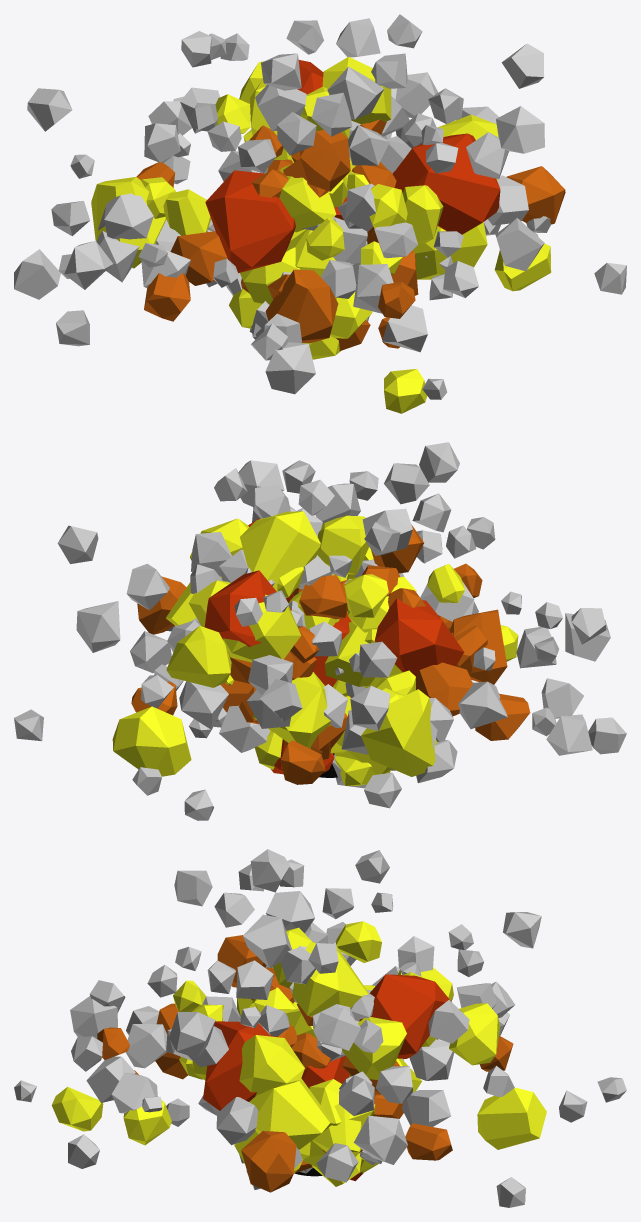
The model's file is Explosion0033.obj.
3 renders of one model, top to bottom at view 1: azimuth 30°, elevation 25°; view 2: azimuth 150°, elevation 25°; view 3: azimuth 270°, elevation 25°, orthographic. The views are drawn at different scales.
Parts seen in each view (by area): view 1: Cube_Material, Cube.002_Material.003, Cube.001_Material.002, Cube.003_Material.004; view 2: Cube_Material, Cube.002_Material.003, Cube.001_Material.002, Cube.003_Material.004; view 3: Cube_Material, Cube.002_Material.003, Cube.001_Material.002, Cube.003_Material.004.
Part boxes in pixels (x1,y1,x2,y2): Cube_Material: (14,14,626,399); Cube.002_Material.003: (91,56,551,413); Cube.001_Material.002: (136,119,565,350); Cube.003_Material.004: (205,60,500,273); Cube_Material: (14,442,626,820); Cube.002_Material.003: (112,511,518,785); Cube.001_Material.002: (131,524,530,784); Cube.003_Material.004: (204,518,464,774); Cube_Material: (14,849,626,1207); Cube.002_Material.003: (51,921,546,1186); Cube.001_Material.002: (97,935,513,1192); Cube.003_Material.004: (203,974,451,1181).
Size of the model in its own units: 16.45 by 9.28 by 17.47.
